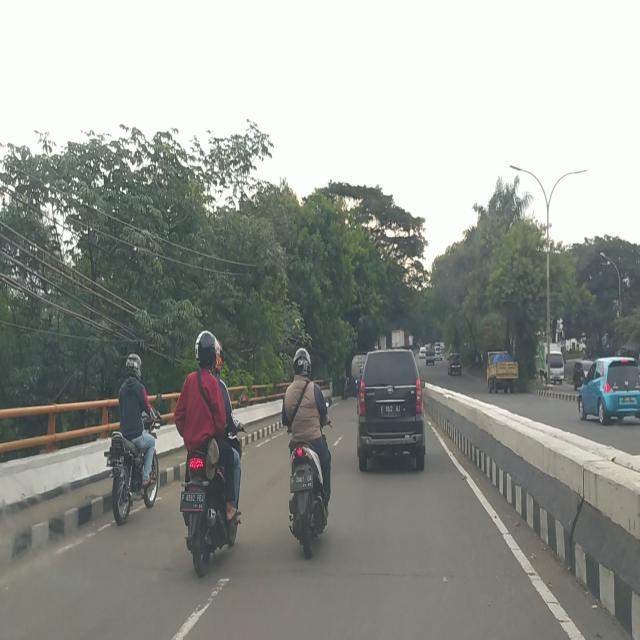Sewer Cover: (228, 569, 529, 577)
